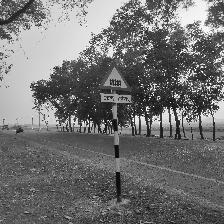Mosque in front: (93, 61, 142, 110), (101, 64, 132, 109)
